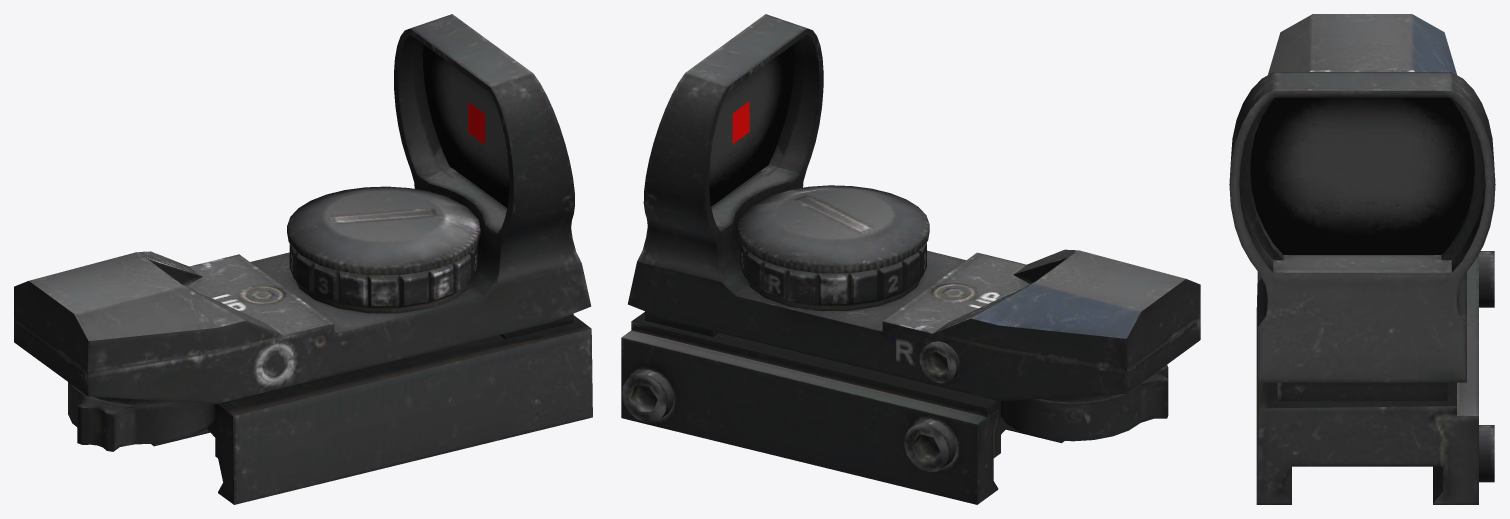
The model's file is ST_MZJ_HD_Scope.FBX.
The picture shows the model from 3 angles, left to right: view 1: azimuth 30°, elevation 25°; view 2: azimuth 150°, elevation 25°; view 3: azimuth 270°, elevation 25°; orthographic projection. The views are drawn at different scales.
Visible parts, largest first — view 1: ST_MZJ_HD_Scope; view 2: ST_MZJ_HD_Scope; view 3: ST_MZJ_HD_Scope.
Part boxes in pixels (box(x1,y1,x2,y2)): ST_MZJ_HD_Scope: box(14, 14, 592, 504); ST_MZJ_HD_Scope: box(621, 14, 1200, 504); ST_MZJ_HD_Scope: box(1229, 14, 1495, 504).
Size of the model in its own units: 8.73 by 5.94 by 3.7.
3 materials, 3 textured.
